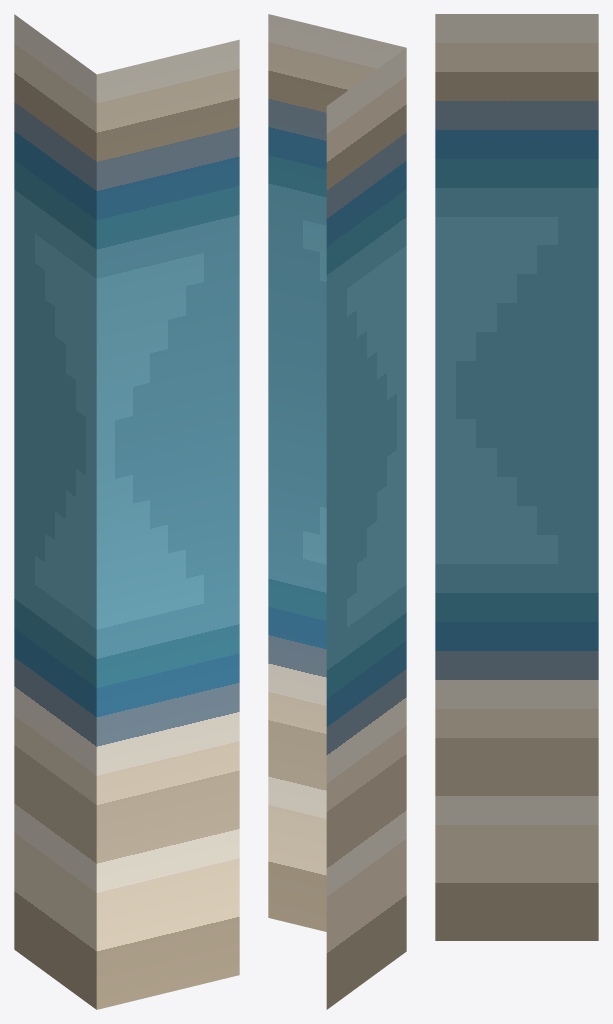
3 views of the same model, side by side, from view 1: azimuth 30°, elevation 25°; view 2: azimuth 150°, elevation 25°; view 3: azimuth 270°, elevation 25° (orthographic). The views are drawn at different scales.
Size of the model in its own units: 0.5 by 3.12 by 0.5.
Materials: 1 (1 with a texture image).
